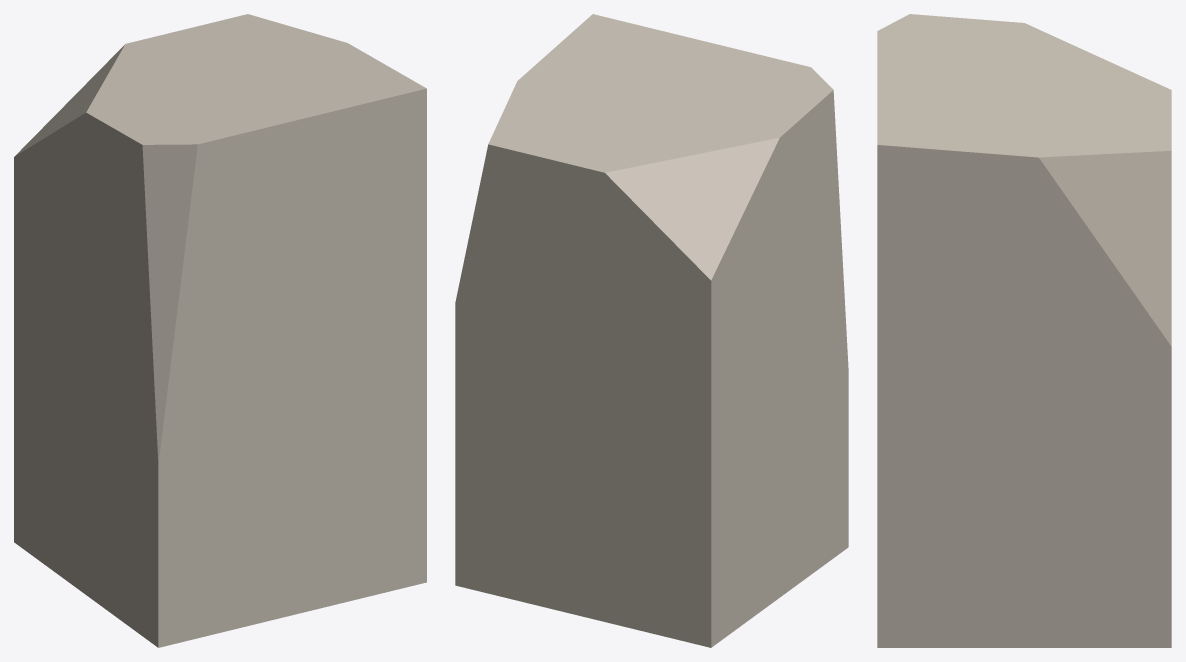
The model's file is Rock_Square_m_12.fbx.
The picture shows the model from 3 angles, left to right: view 1: azimuth 30°, elevation 25°; view 2: azimuth 150°, elevation 25°; view 3: azimuth 270°, elevation 25°; orthographic projection. The views are drawn at different scales.
Visible parts, largest first — view 1: Rock_Square_m_12; view 2: Rock_Square_m_12; view 3: Rock_Square_m_12.
Part boxes in pixels (left/top/right/bottom): Rock_Square_m_12: left=14, top=14, right=426, bottom=647; Rock_Square_m_12: left=455, top=14, right=848, bottom=647; Rock_Square_m_12: left=877, top=14, right=1171, bottom=647.
Bounding box in the file's own units: 38.88 × 68.34 × 36.2.
